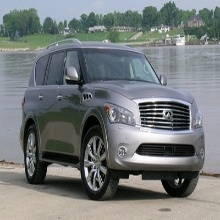no damage: (20, 39, 206, 201)
